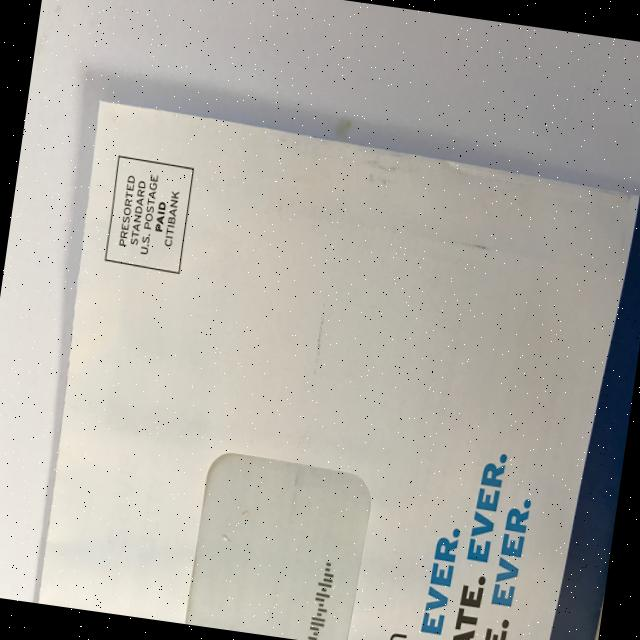paper: (28, 98, 640, 640), (185, 448, 376, 640)
